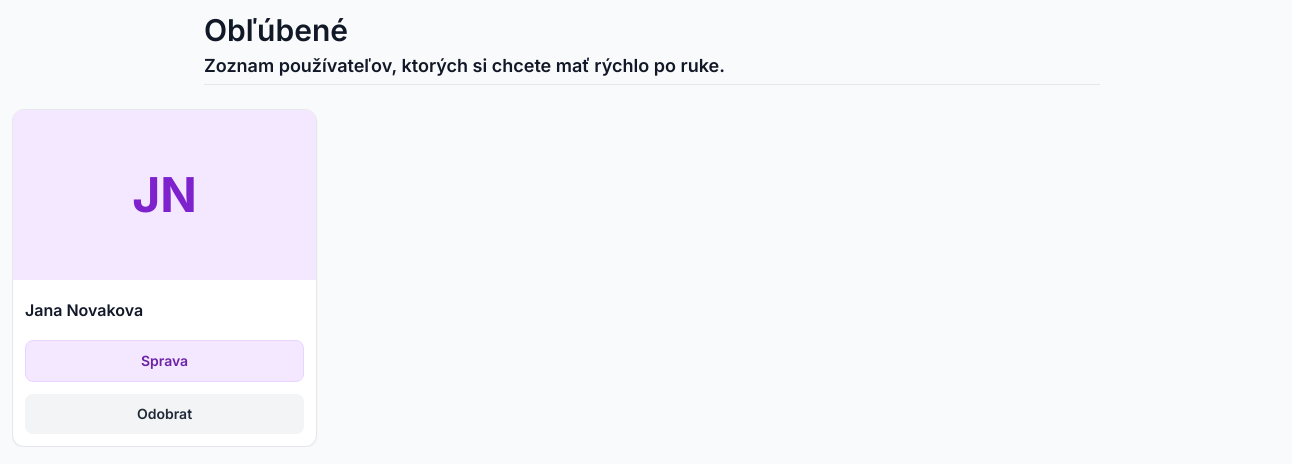
Test: FavoritesModule › removes a favorite user after clicking remove
Click the button "Odobrat". click: (164, 414)
box: left=25, top=394, right=304, bottom=434
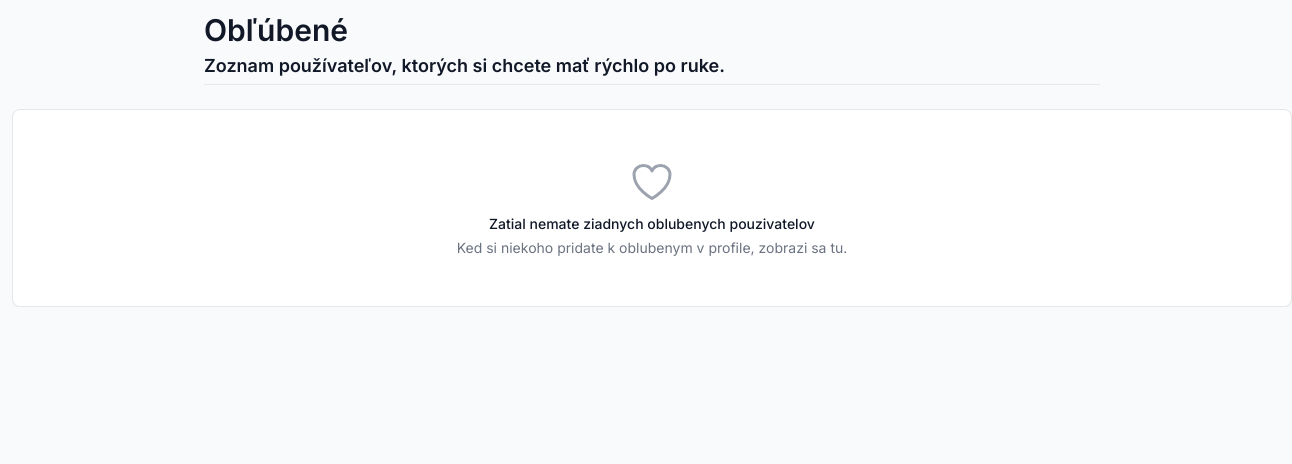
Check: the button "Jana Novakova" is gone
